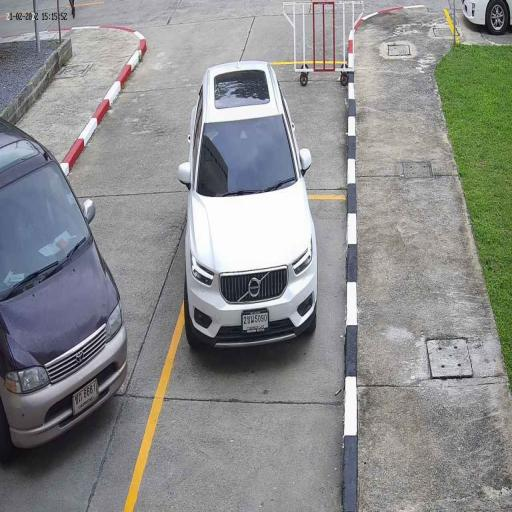car: (0, 120, 129, 470), (184, 60, 318, 354)
